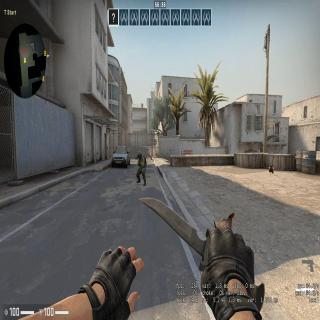CT-Body: (136, 151, 144, 183)
CT-Head: (139, 151, 142, 157)
